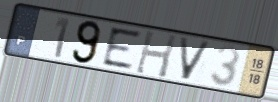1: (53, 16, 72, 60)
3: (209, 43, 243, 89)
9: (69, 19, 105, 66)
E: (101, 25, 143, 71)
H: (133, 28, 179, 80)
V: (177, 36, 214, 82)
